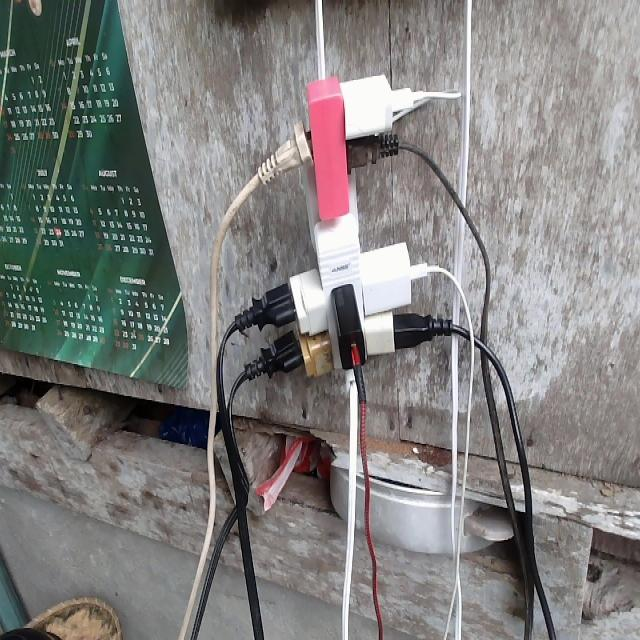-: (212, 71, 462, 404)
